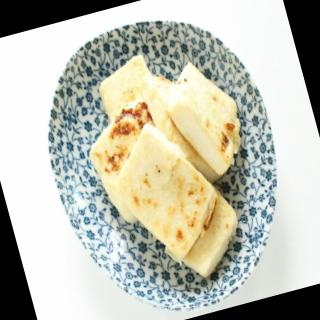Tahu: (59, 41, 269, 290)
